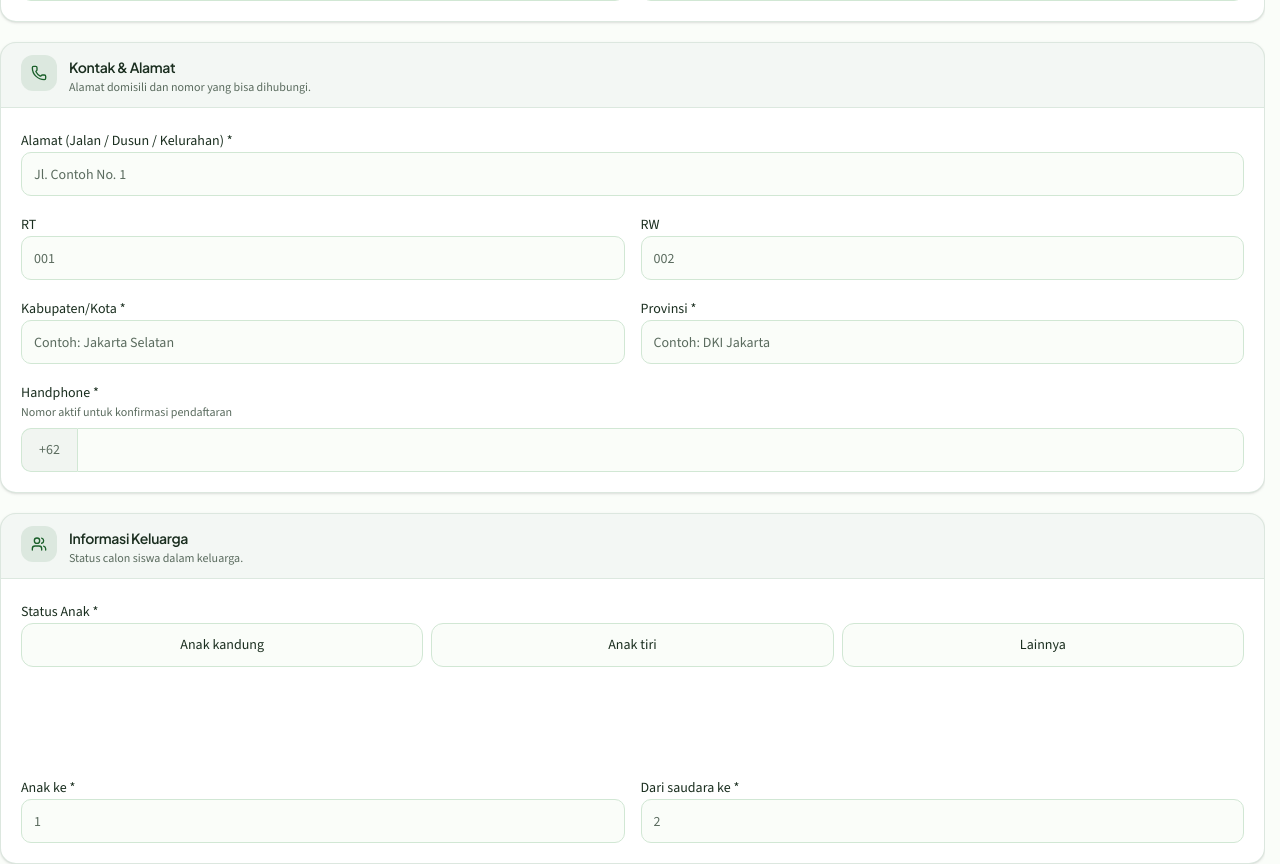
it: PmbWizardStepDataDiri status anak › uses stable button choices instead of select dropdown
(page scrolled)
Expected: the element named "Status anak" is shown, [21, 623, 1244, 667]
Click the radio button labelled "Anak kandung" at coordinates (222, 645), box [21, 623, 423, 667]
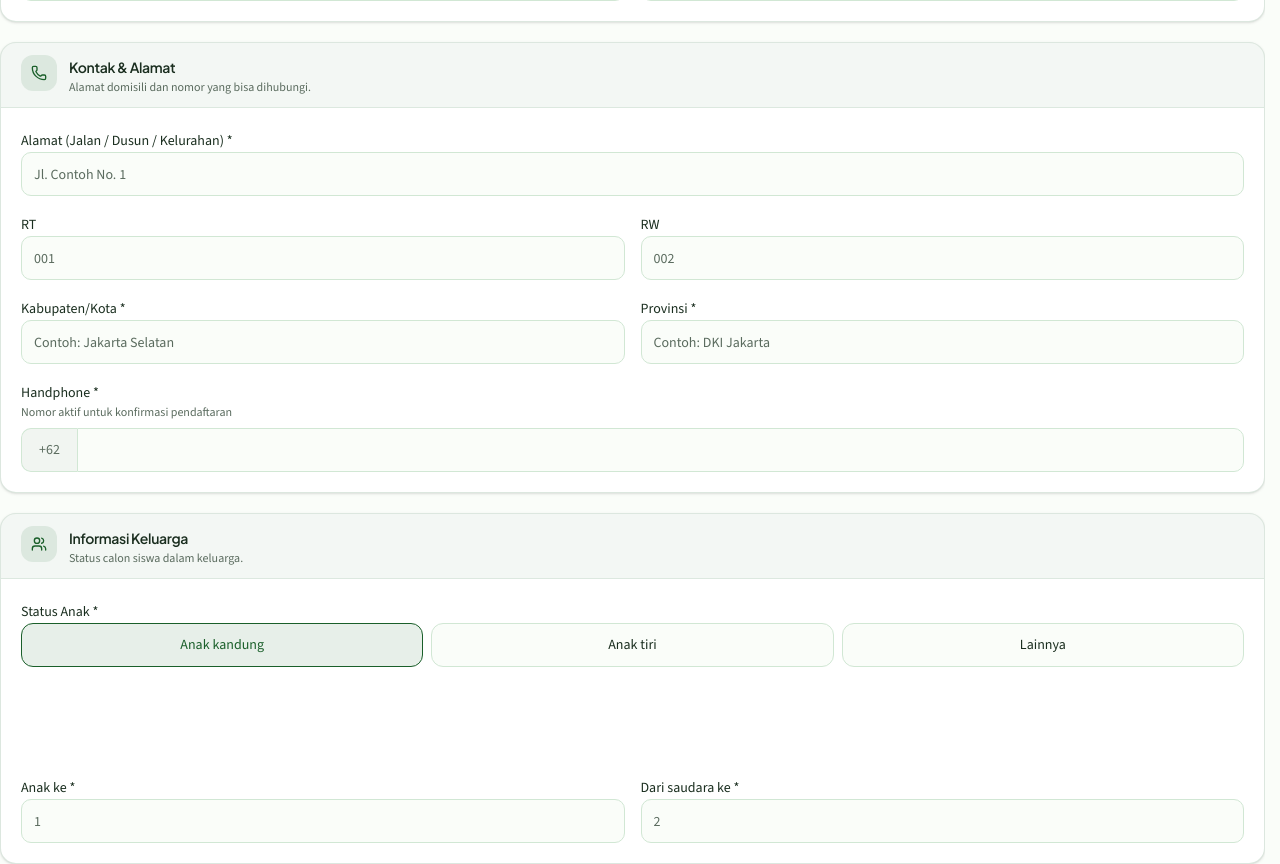
Now the radio button labelled "Anak kandung" is checked, box [21, 623, 423, 667]
Click the radio button labelled "Lainnya" at coordinates (1043, 645), box [842, 623, 1244, 667]
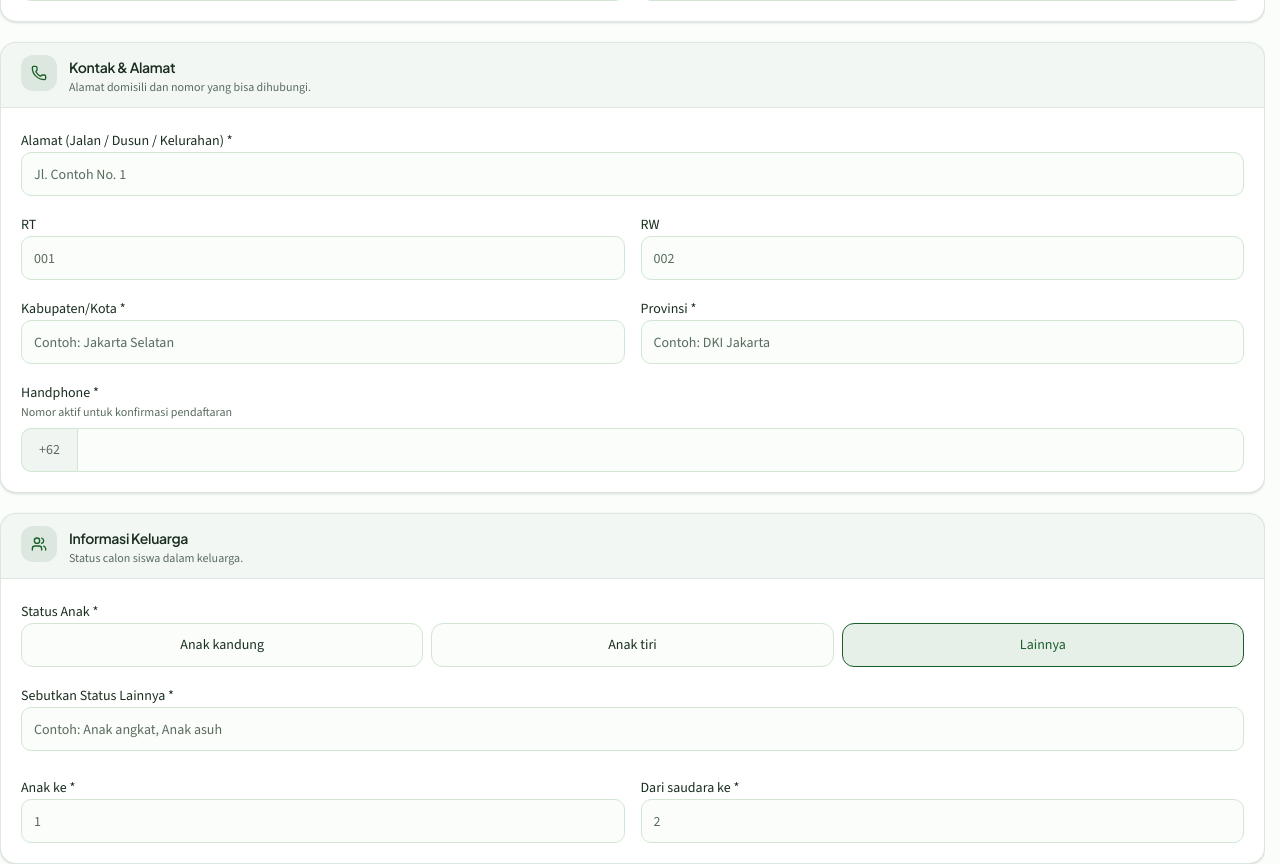
Now the field with placeholder "Contoh: Anak angkat, Anak asuh" is shown, box [21, 707, 1244, 751]
